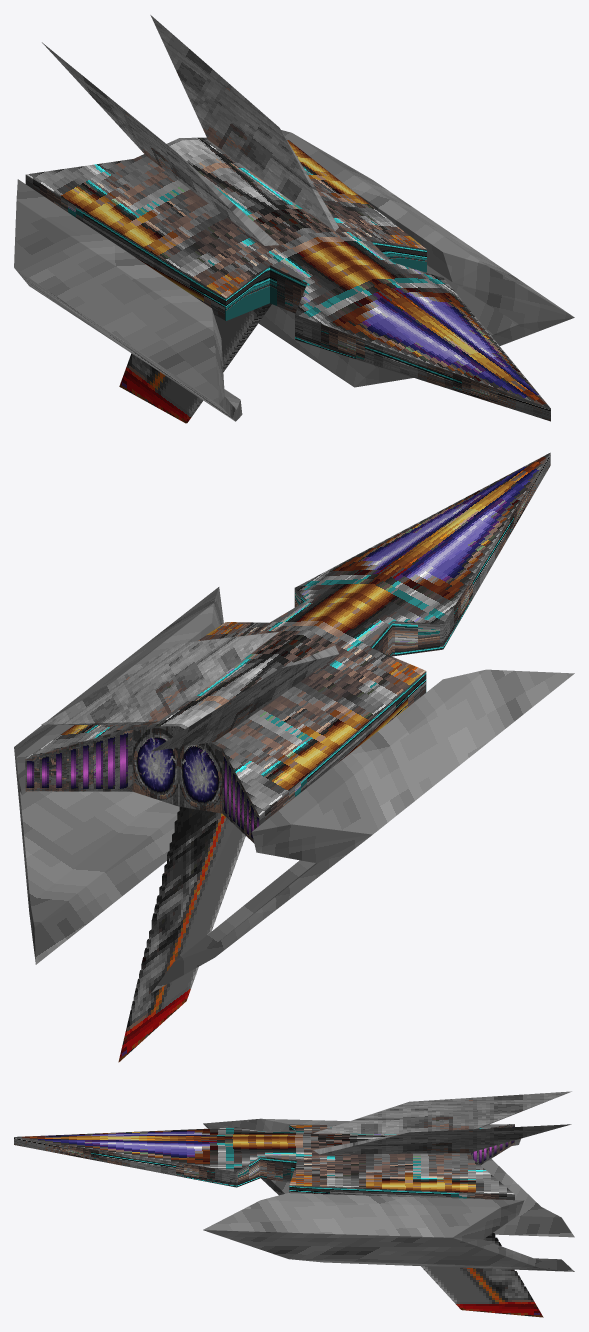
The model's file is ship.obj.
3 views of the same model, one above another, from view 1: azimuth 30°, elevation 25°; view 2: azimuth 150°, elevation 25°; view 3: azimuth 270°, elevation 25° (orthographic). The views are drawn at different scales.
Size of the model in its own units: 0.6884 by 0.6259 by 1.52.
Materials: 6 (6 with a texture image).
